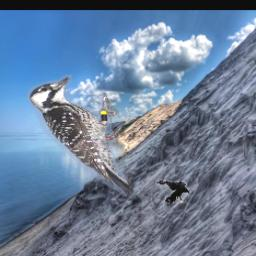Crow: (156, 179, 190, 204)
Woodpecker: (28, 76, 132, 198)
